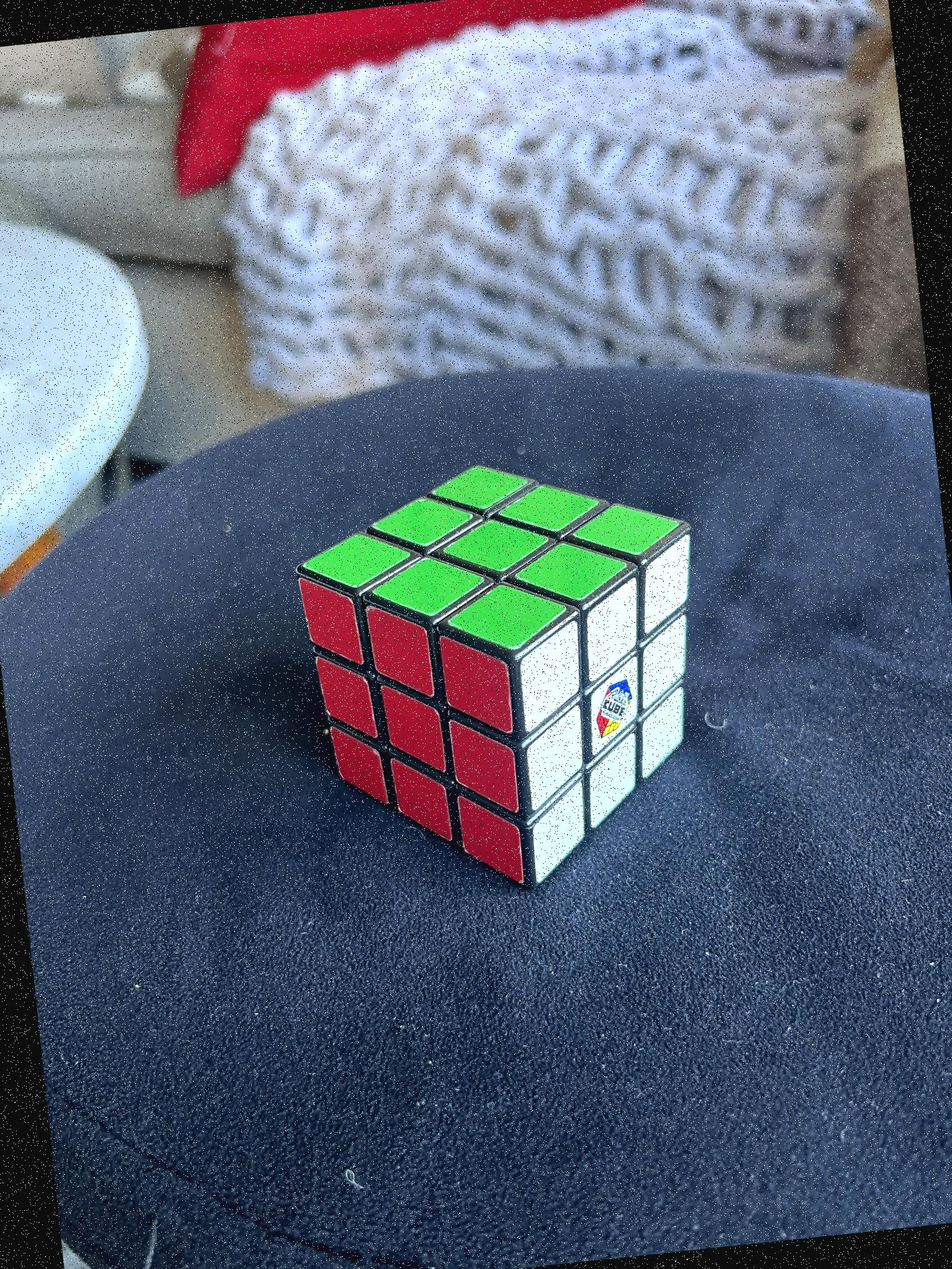rubiks_cube: (298, 465, 691, 882)
